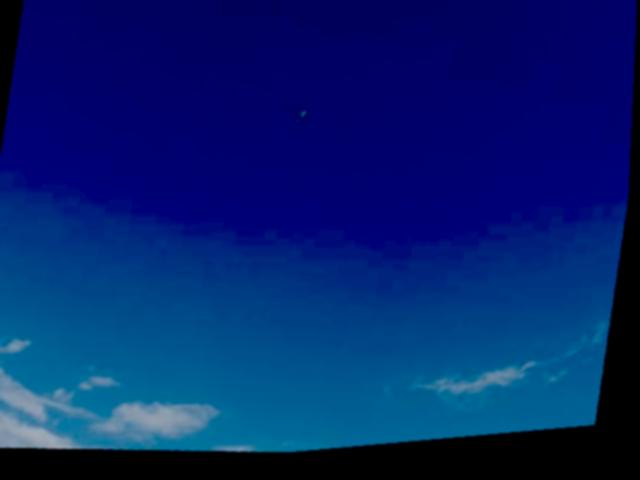uav: (287, 105, 319, 137)
